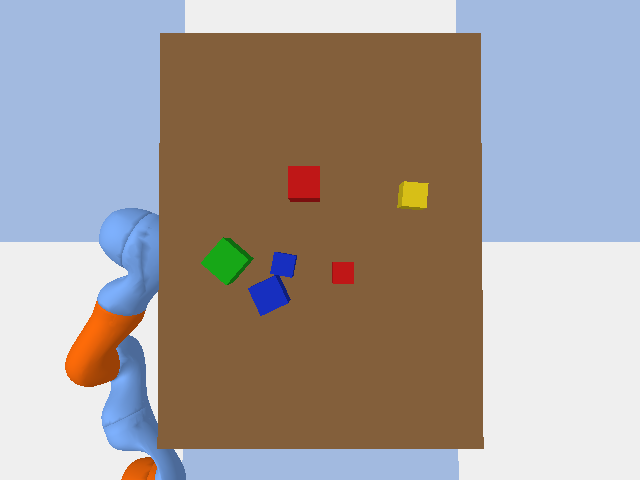blue_obj: (248, 275, 290, 315), (270, 252, 296, 277)
green_obj: (201, 237, 253, 284)
red_obj: (288, 166, 319, 201), (332, 262, 353, 283)
yellow_obj: (397, 181, 428, 209)
